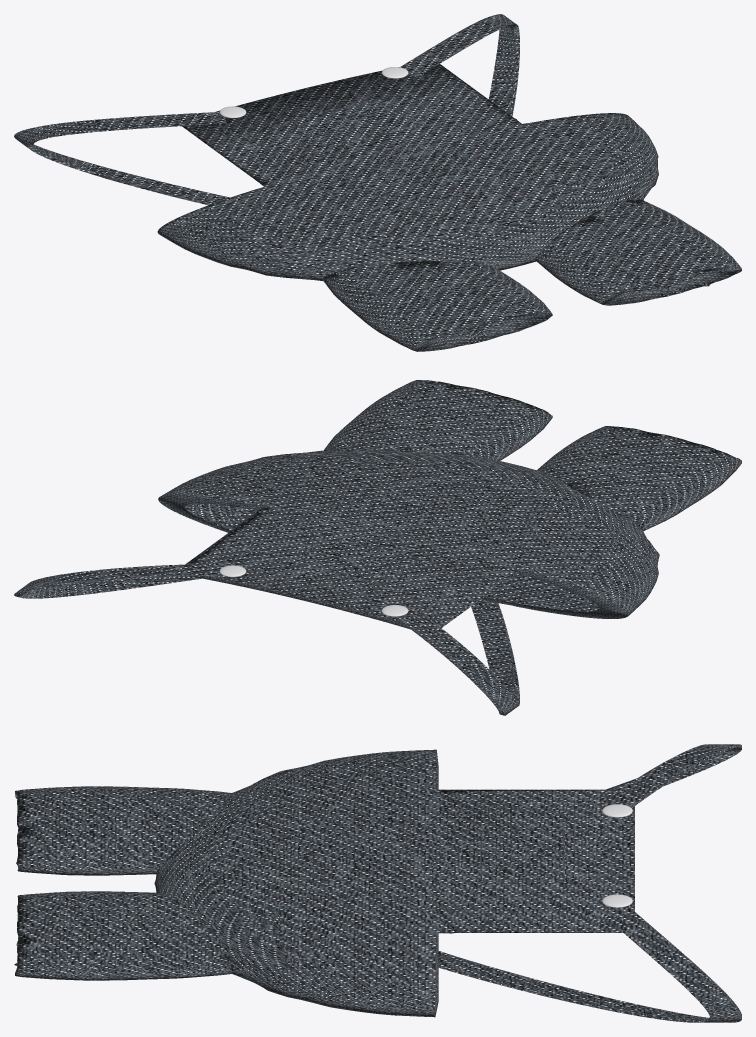
File: overalls2.fbx
The picture shows the model from 3 angles, top to bottom: view 1: azimuth 30°, elevation 25°; view 2: azimuth 150°, elevation 25°; view 3: azimuth 270°, elevation 25°; orthographic projection. The views are drawn at different scales.
Parts seen in each view (by area): view 1: overalls2; view 2: overalls2; view 3: overalls2.
Boxes of the visible parts, bbox=[...] form: overalls2: bbox=[14, 14, 741, 351]; overalls2: bbox=[14, 380, 741, 715]; overalls2: bbox=[14, 744, 741, 1022].
Size of the model in its own units: 0.9205 by 0.087 by 1.04.
2 materials, 1 textured.
